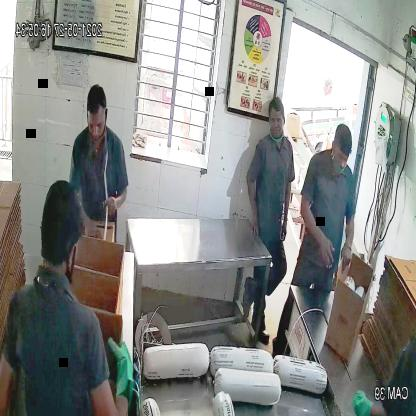no_goggles: (328, 146, 352, 169), (84, 113, 108, 135)
